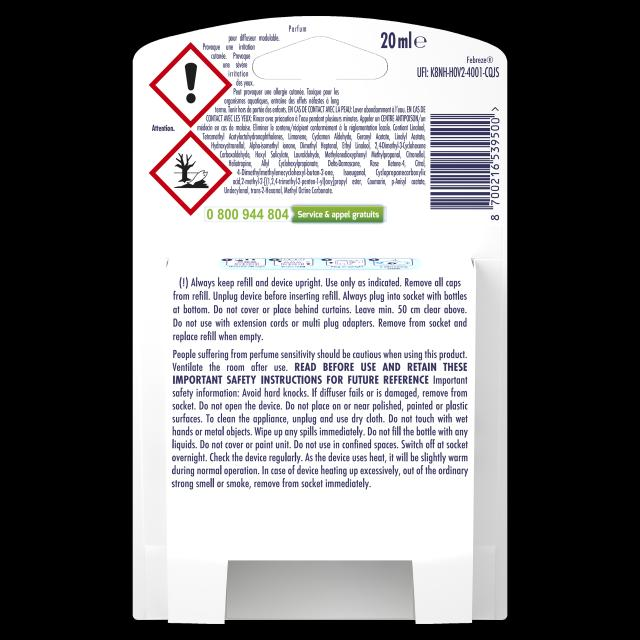GHS_Symbol_ENVIRONMENT: (147, 130, 232, 216)
GHS_Symbol_EXCLAMATION_MARK: (148, 42, 232, 127)
